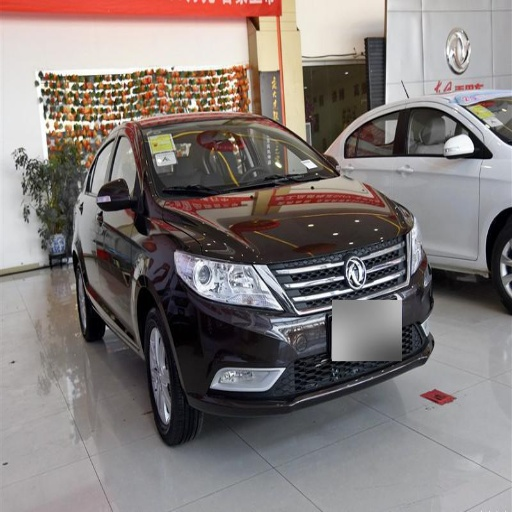front_bumper: (169, 235, 431, 411)
front_right_door: (414, 108, 478, 257), (98, 126, 143, 330)
front_right_light: (177, 250, 276, 309)
